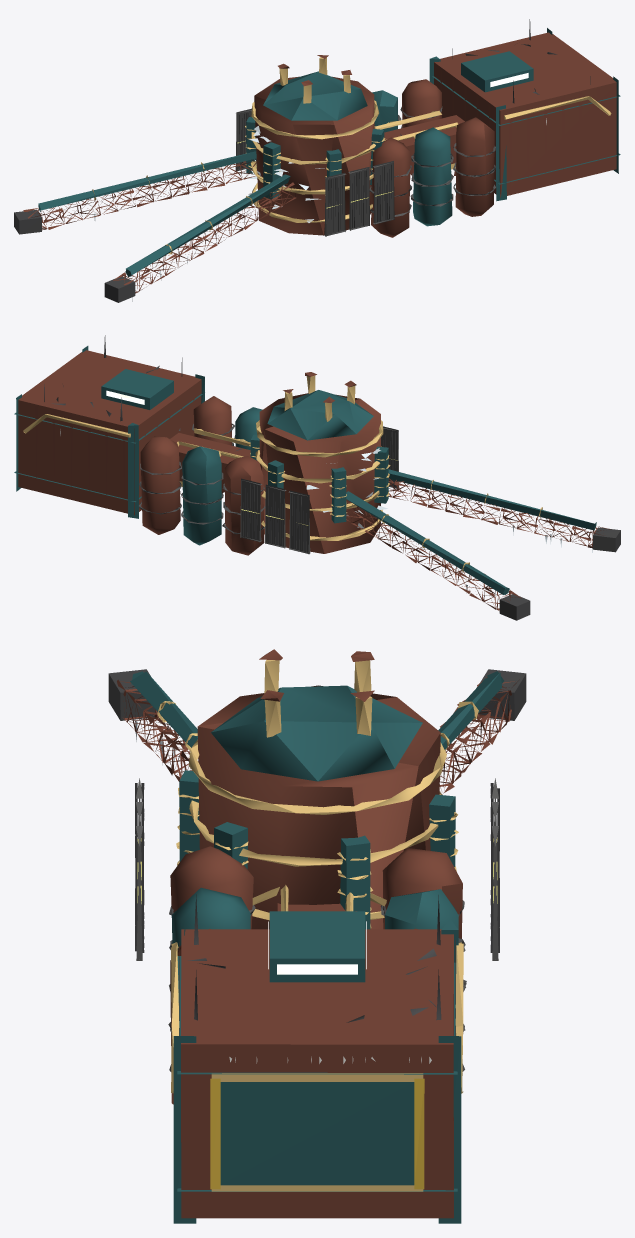
The model's file is PumpwerkFern.glb.
3 renders of one model, top to bottom at view 1: azimuth 30°, elevation 25°; view 2: azimuth 150°, elevation 25°; view 3: azimuth 270°, elevation 25°, orthographic. The views are drawn at different scales.
Parts seen in each view (by area): view 1: Pumpwerk_lack, Pumpwerk_metall, Pumpwerk_matt; view 2: Pumpwerk_lack, Pumpwerk_metall; view 3: Pumpwerk_lack, Pumpwerk_metall, Pumpwerk_warn, Pumpwerk_glow_Fenster hell.
Boxes of the visible parts, left/top/right/bottom form: Pumpwerk_lack: left=14, top=19, right=620, bottom=302; Pumpwerk_metall: left=92, top=57, right=611, bottom=254; Pumpwerk_matt: left=94, top=118, right=546, bottom=301; Pumpwerk_lack: left=14, top=335, right=620, bottom=620; Pumpwerk_metall: left=23, top=375, right=542, bottom=571; Pumpwerk_lack: left=108, top=649, right=526, bottom=1223; Pumpwerk_metall: left=157, top=659, right=478, bottom=1191; Pumpwerk_warn: left=210, top=1078, right=424, bottom=1189; Pumpwerk_glow_Fenster hell: left=268, top=921, right=366, bottom=974.
Bounding box in the file's own units: 150 × 43.81 × 51.67.
